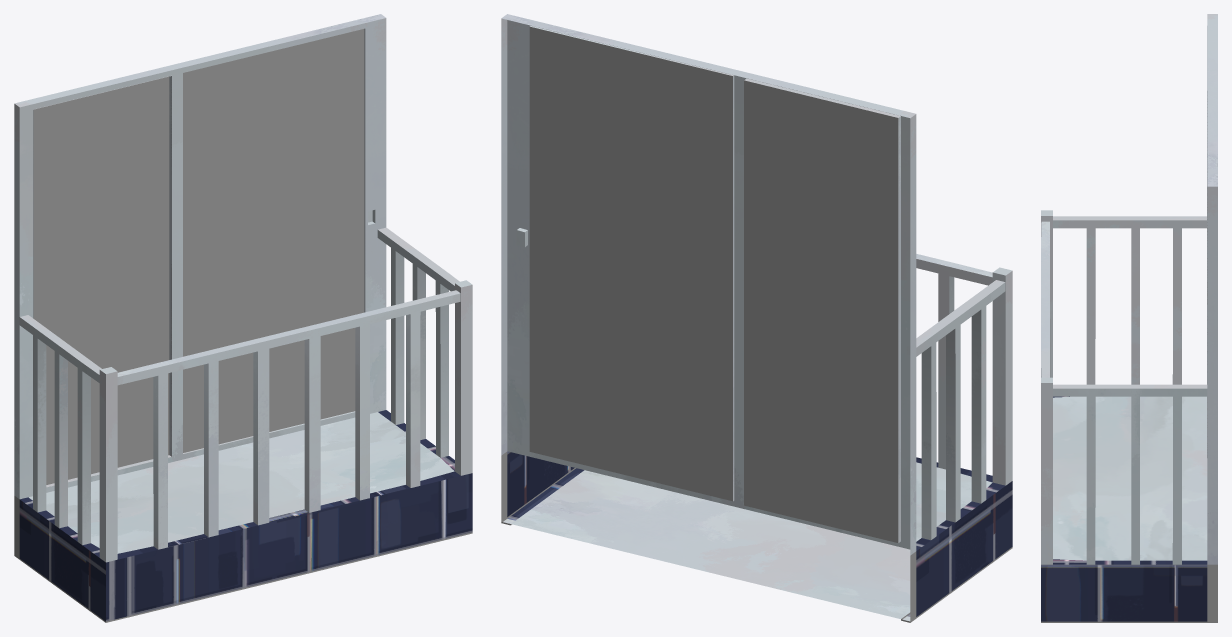
Rendered from Balcony1wDoor 1.fbx.
3 views of the same model, side by side, from view 1: azimuth 30°, elevation 25°; view 2: azimuth 150°, elevation 25°; view 3: azimuth 270°, elevation 25° (orthographic). The views are drawn at different scales.
Visible parts, largest first — view 1: BalconyStyle1WithDoor; view 2: BalconyStyle1WithDoor; view 3: BalconyStyle1WithDoor.
Boxes of the visible parts, x1,y1,x2,y2 form: BalconyStyle1WithDoor: (14, 14, 472, 622); BalconyStyle1WithDoor: (501, 14, 1012, 622); BalconyStyle1WithDoor: (1041, 14, 1217, 622).
Size of the model in its own units: 306 by 361 by 133.
Materials: 5 (3 with a texture image).
